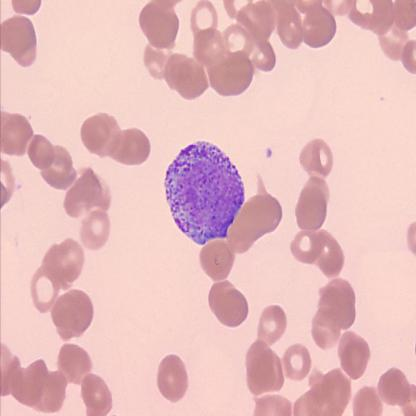Myelocyte: (166, 138, 246, 242)
